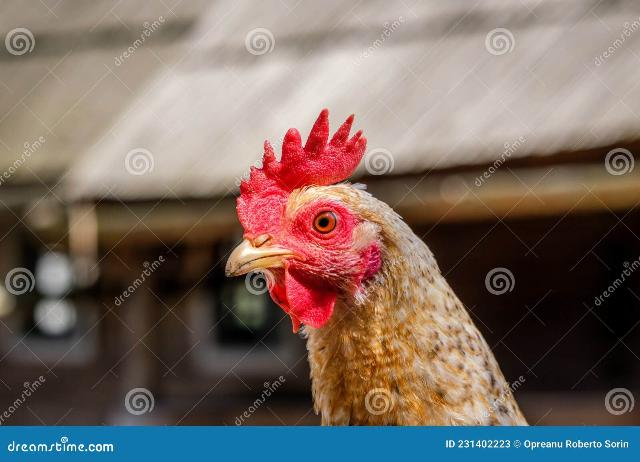Chicken: (222, 106, 530, 428)
